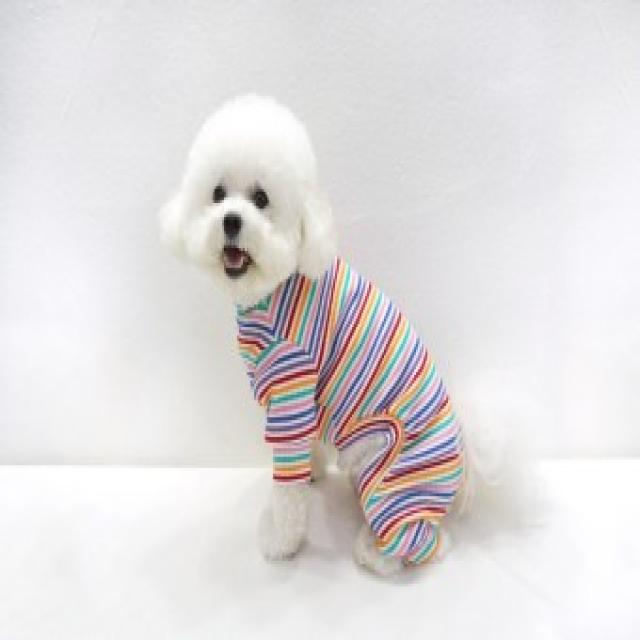cloth: (238, 258, 464, 563)
